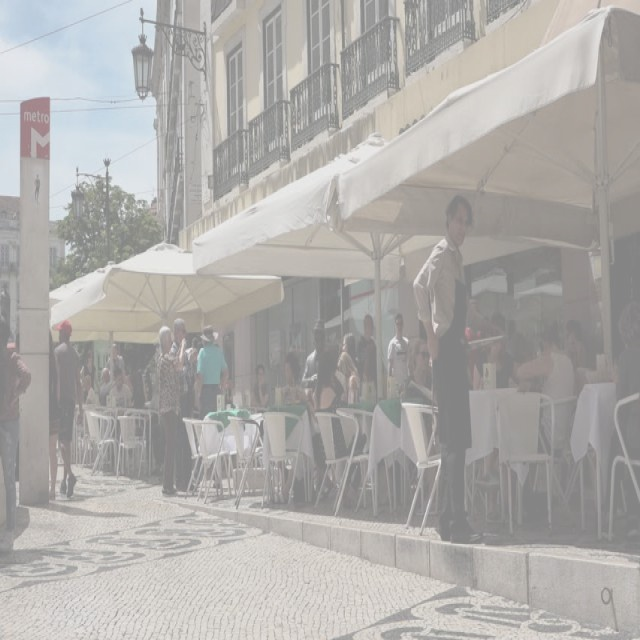pessoa: (410, 189, 509, 548), (471, 318, 518, 522), (602, 298, 640, 542), (472, 298, 602, 366), (514, 325, 576, 460), (0, 310, 33, 558), (403, 334, 439, 514), (50, 318, 84, 502), (192, 322, 229, 490), (154, 322, 188, 499), (168, 316, 198, 486), (280, 349, 307, 502), (141, 330, 166, 486), (298, 314, 334, 416), (354, 312, 378, 404), (385, 312, 410, 397), (311, 348, 340, 419), (48, 326, 59, 504), (337, 349, 362, 407), (78, 349, 102, 404), (108, 366, 134, 410), (188, 333, 204, 400), (250, 363, 272, 408), (126, 364, 148, 408), (98, 364, 115, 407), (106, 343, 125, 376), (340, 329, 357, 364), (0, 280, 11, 327), (82, 373, 97, 407), (33, 170, 40, 202), (211, 328, 220, 347)
